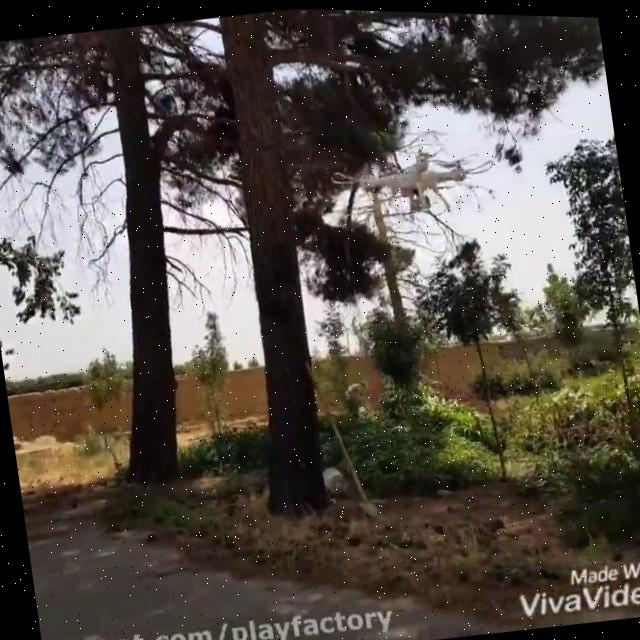drone: (328, 134, 500, 224)
